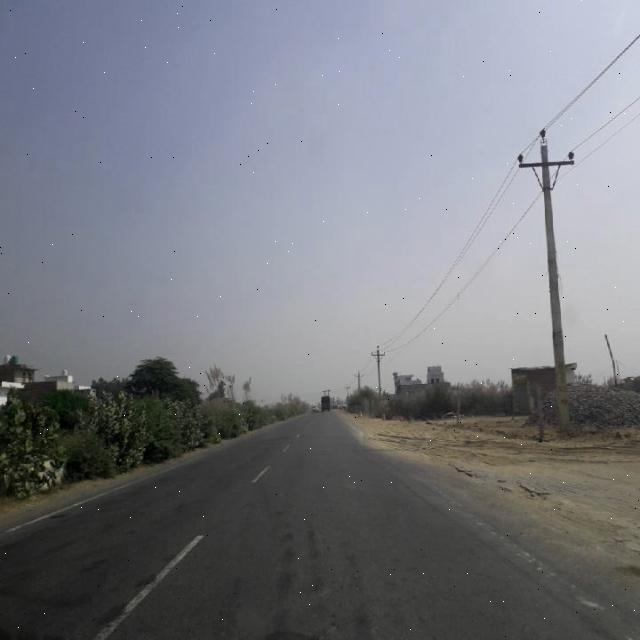D44: (507, 540, 621, 620), (388, 472, 496, 537)
